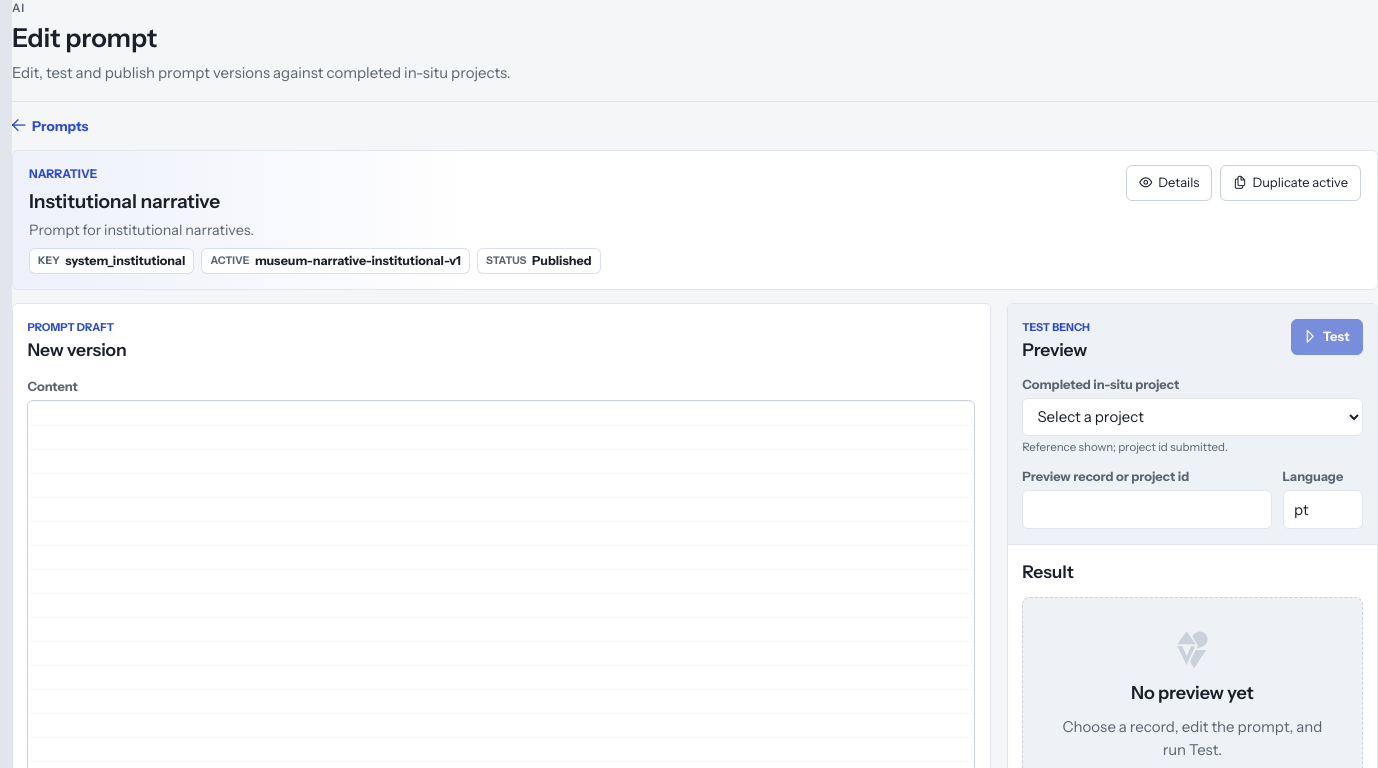
Test case: AiPromptsPageComponent › tests draft editor content without creating a draft
Type "record-1" into the field labelled "Preview record or project id".
click(1147, 510); type("record-1")  # box [1022,490,1272,529]
(page scrolled)
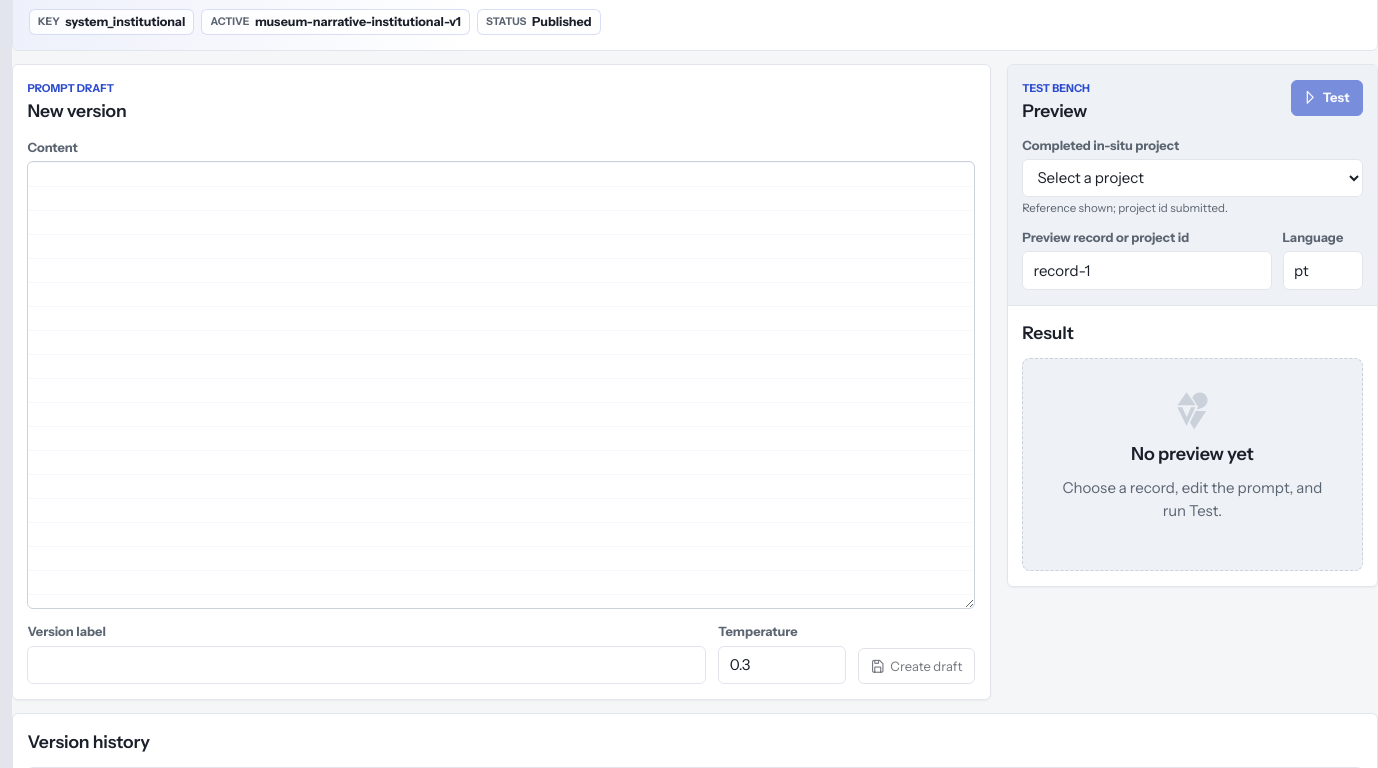
Type "Ad-hoc prompt content." into the text box labelled "Content".
click(501, 385); type("Ad-hoc prompt content.")  # box [27,161,975,609]
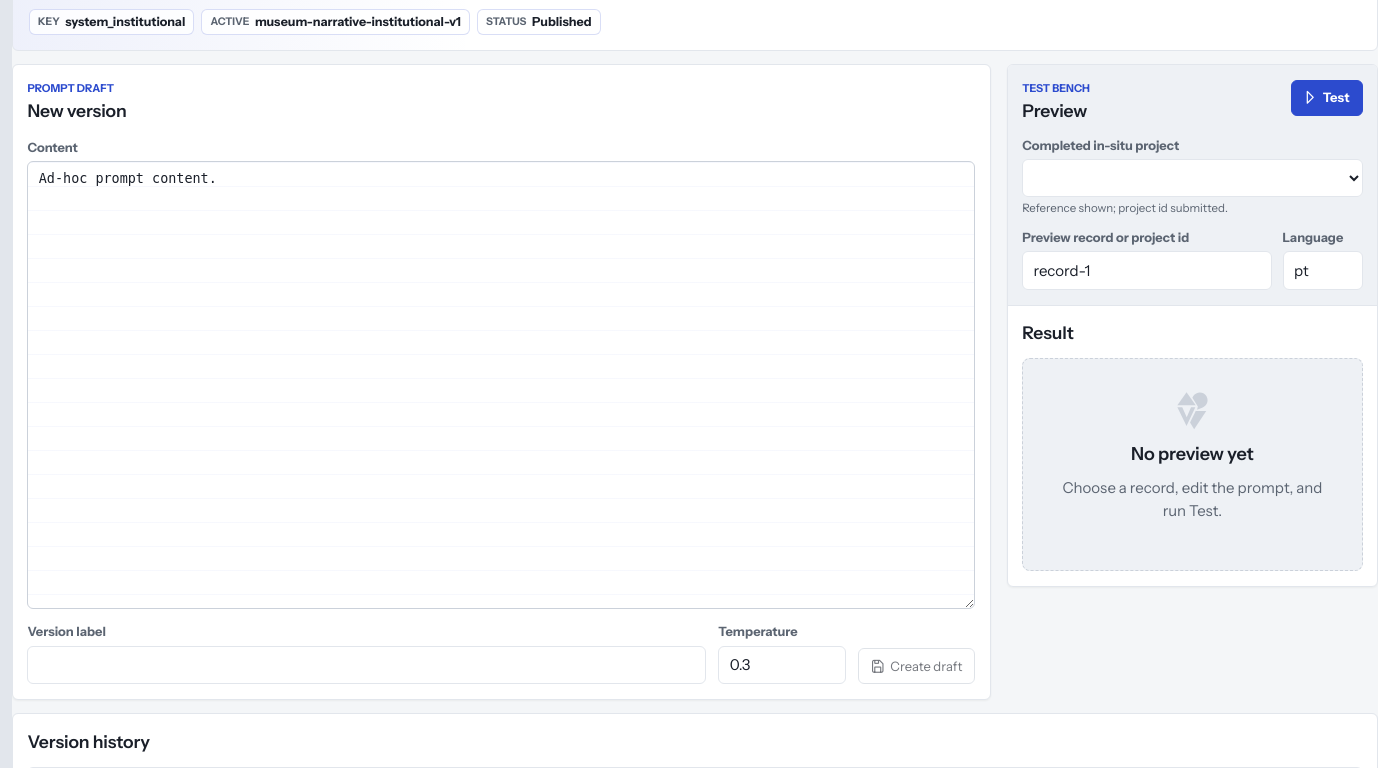
Click the button "Test".
click(1327, 98)  # box [1291,80,1363,116]
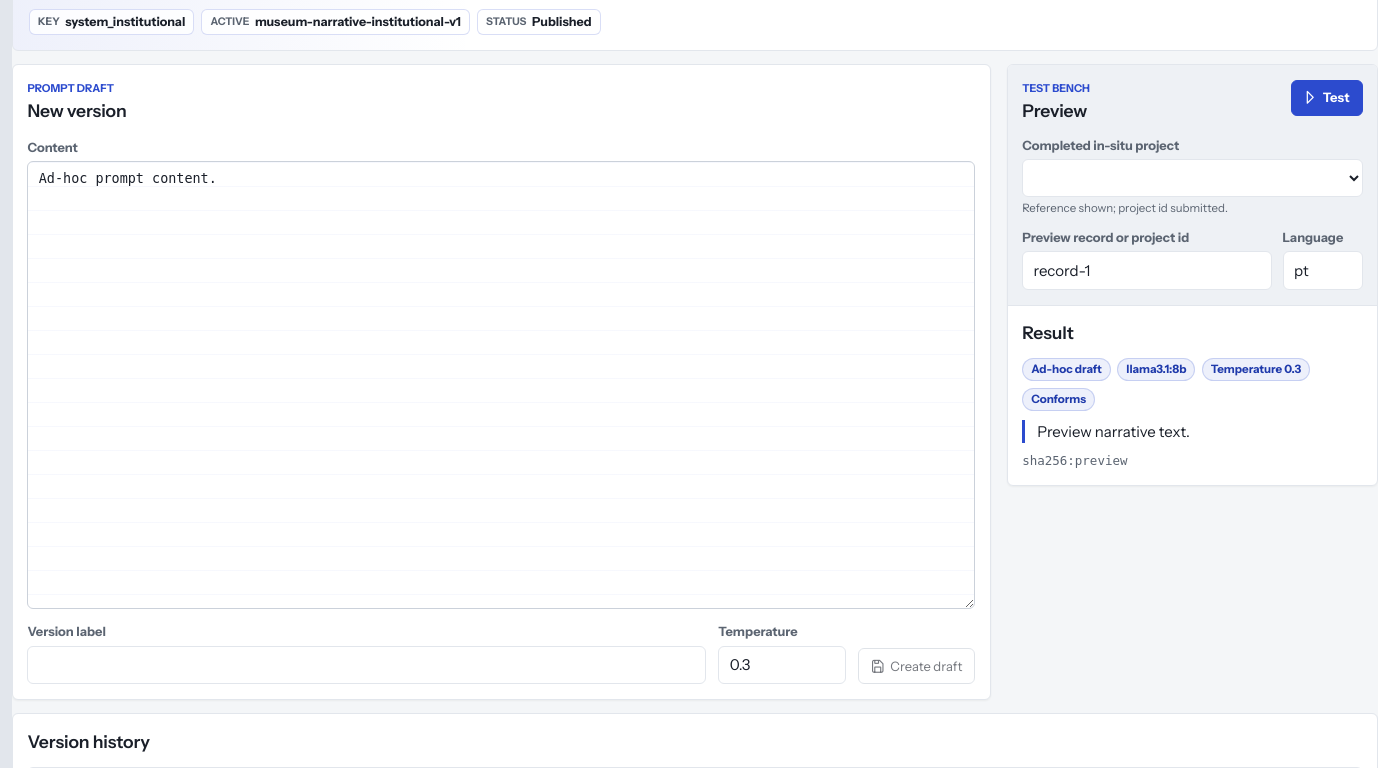
Expected: the text "Preview narrative text." is shown, [1022,420,1363,443]
Expected: the text "Ad-hoc draft" is shown, [1022,358,1111,382]
